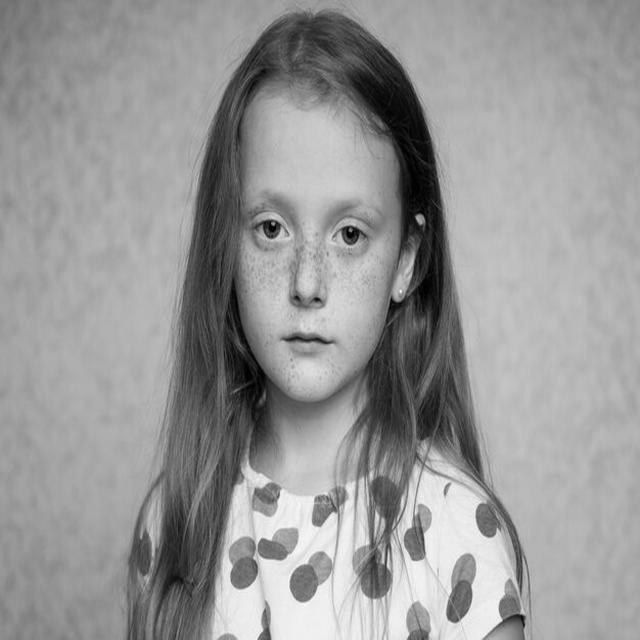Neutral: (234, 106, 399, 402)
